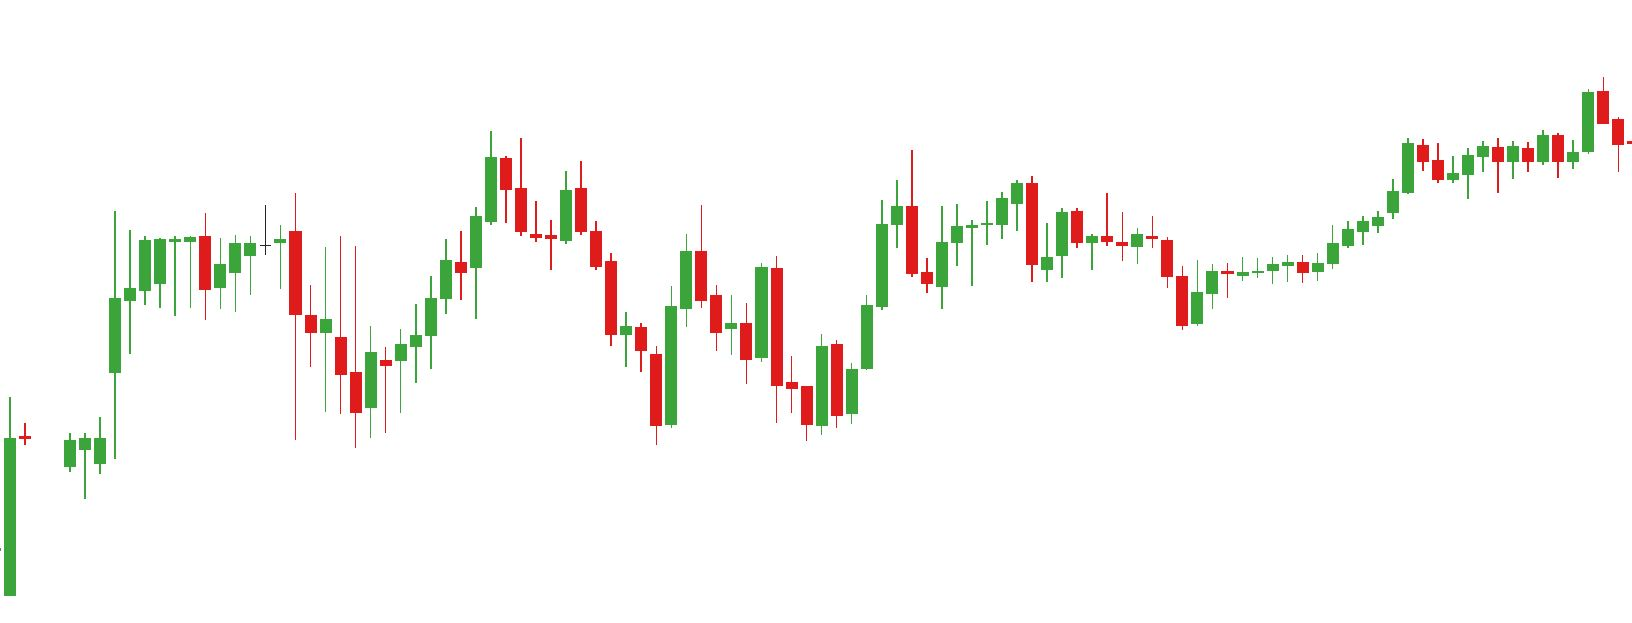buy: (932, 220, 1204, 334)
